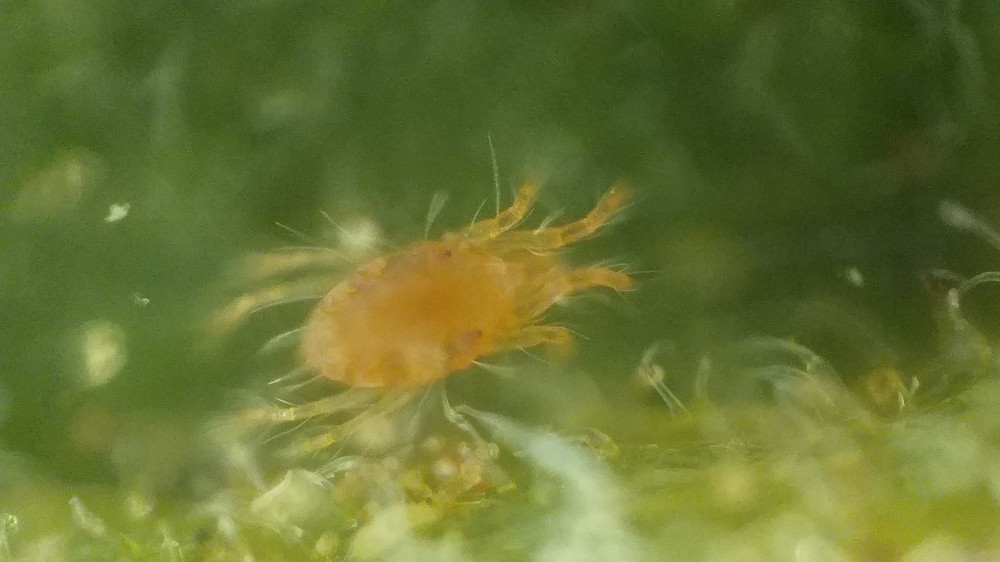Aracnido Rojo: (207, 168, 662, 454)
